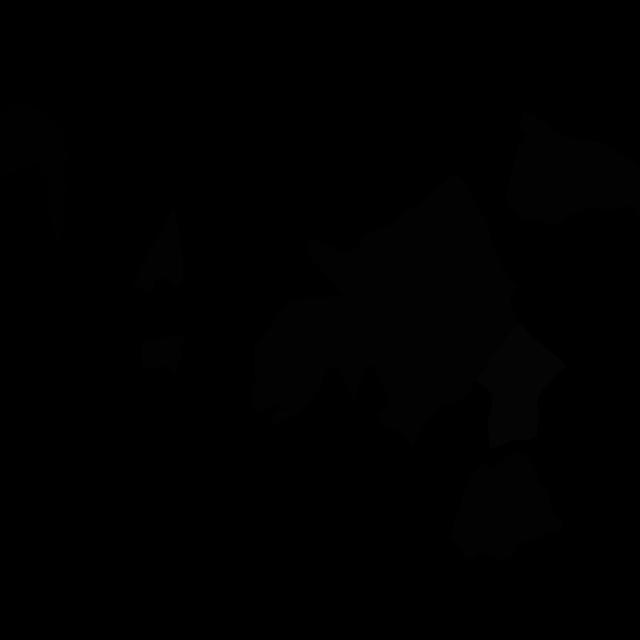cardboard: (306, 173, 520, 447), (252, 296, 382, 424), (506, 109, 640, 224), (450, 452, 563, 561), (132, 207, 183, 292), (140, 335, 185, 375)
rigid_plastic: (0, 101, 70, 248)
soft_plastic: (476, 322, 566, 449)
